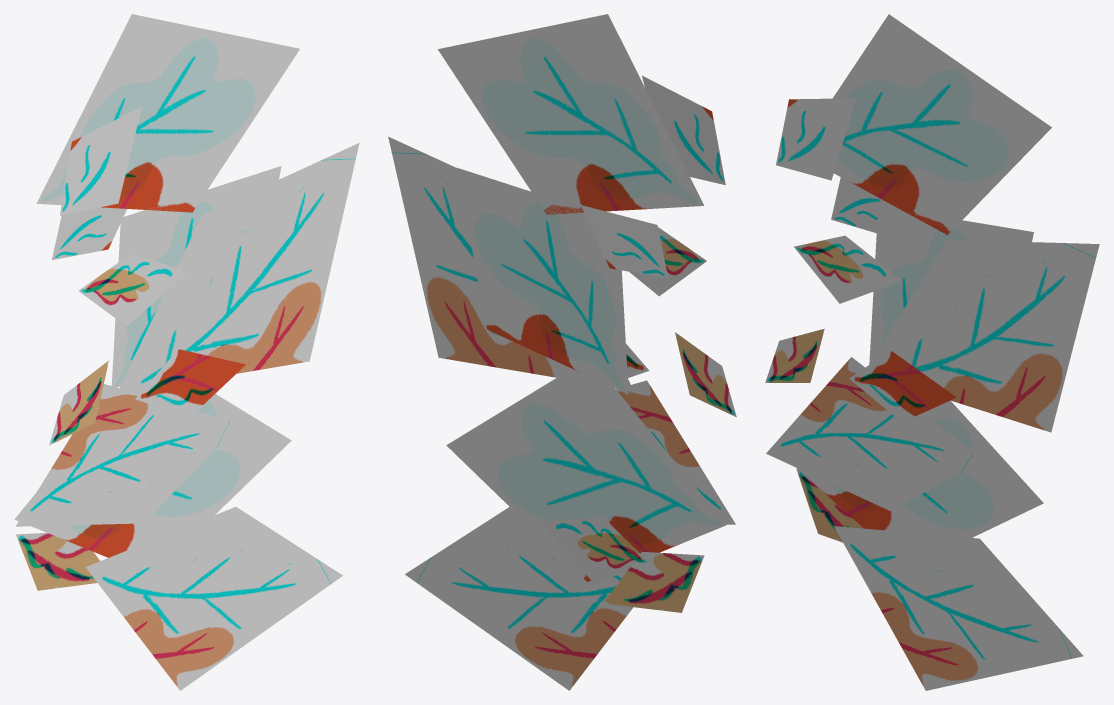
File: Leaves.fbx
3 views of the same model, side by side, from view 1: azimuth 30°, elevation 25°; view 2: azimuth 150°, elevation 25°; view 3: azimuth 330°, elevation 25° (orthographic). The views are drawn at different scales.
Visible parts, largest first — view 1: Leaves; view 2: Leaves; view 3: Leaves.
Part boxes in pixels (<box>): Leaves: <box>14,14,359,690</box>; Leaves: <box>388,14,736,690</box>; Leaves: <box>765,14,1099,690</box>.
Size of the model in its own units: 1.62 by 3.07 by 0.2766.
Materials: 1 (1 with a texture image).
